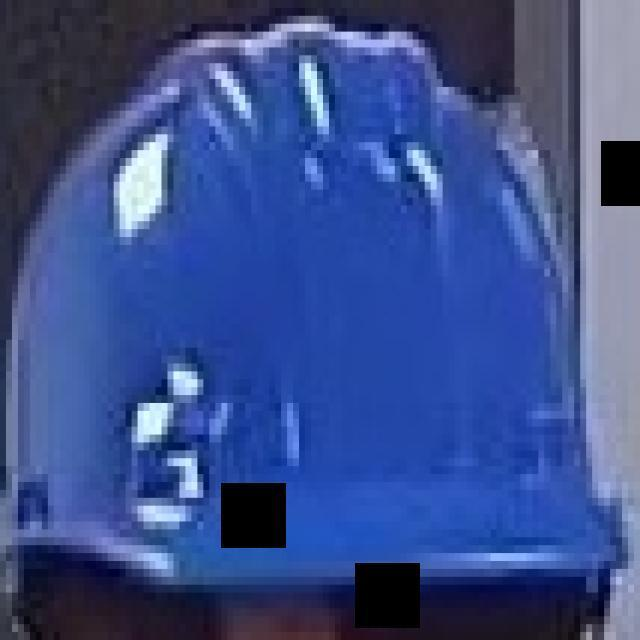blue helmet: (9, 27, 620, 600)
